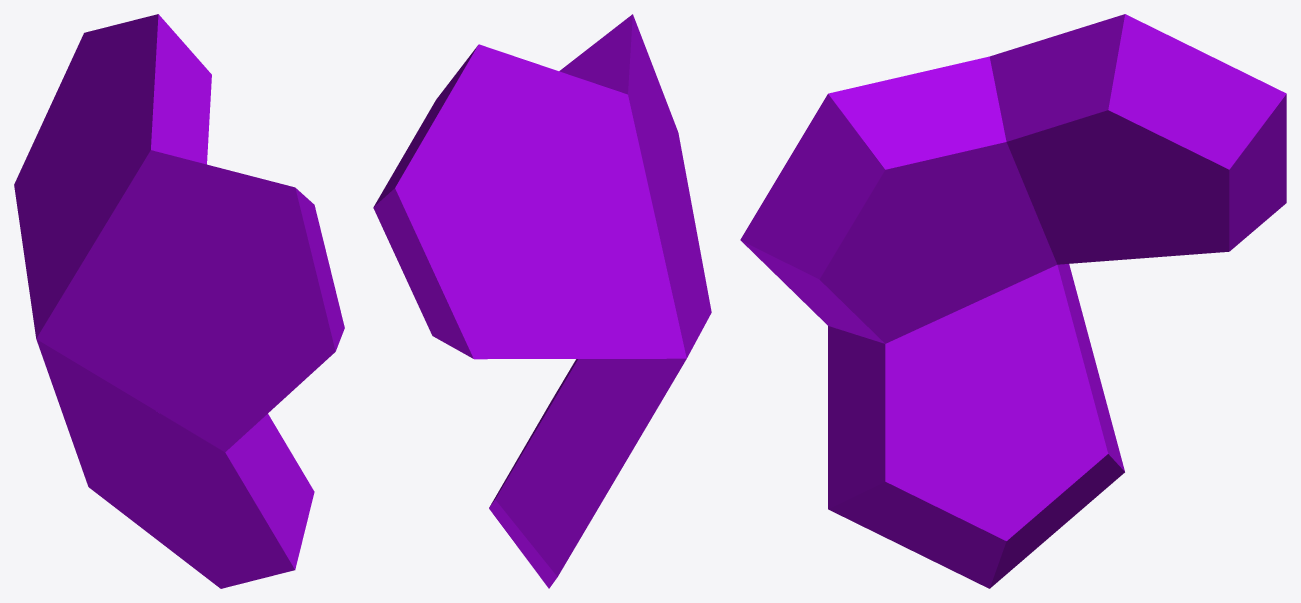
The model's file is piece1.glb.
3 views of the same model, side by side, from view 1: azimuth 30°, elevation 25°; view 2: azimuth 150°, elevation 25°; view 3: azimuth 270°, elevation 25° (orthographic). The views are drawn at different scales.
Parts seen in each view (by area): view 1: piece_A_1; view 2: piece_A_1; view 3: piece_A_1.
Part boxes in pixels (box(x1,y1,x2,y2)): piece_A_1: box(14, 14, 344, 588); piece_A_1: box(373, 14, 711, 588); piece_A_1: box(740, 14, 1286, 588).
Bounding box in the file's own units: 1.36 × 3.45 × 2.97.
